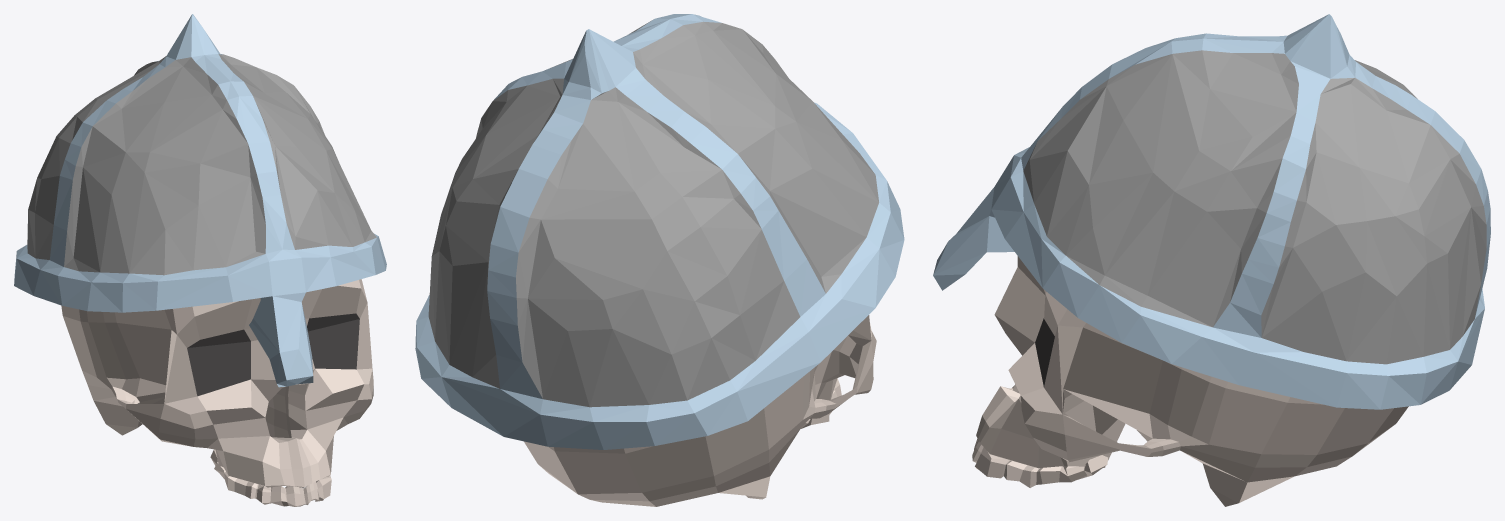
The model's file is Isl_4_Scull_with_helmet.fbx.
3 renders of one model, left to right at view 1: azimuth 30°, elevation 25°; view 2: azimuth 150°, elevation 25°; view 3: azimuth 270°, elevation 25°, orthographic. The views are drawn at different scales.
Visible parts, largest first — view 1: Isl_4_Scull_with_helmet; view 2: Isl_4_Scull_with_helmet; view 3: Isl_4_Scull_with_helmet.
Part boxes in pixels (left/top/right/bottom): Isl_4_Scull_with_helmet: left=14, top=14, right=386, bottom=506; Isl_4_Scull_with_helmet: left=415, top=14, right=904, bottom=506; Isl_4_Scull_with_helmet: left=933, top=14, right=1490, bottom=506.
Bounding box in the file's own units: 81 × 106 × 97.76.
Materials: 1 (1 with a texture image).
